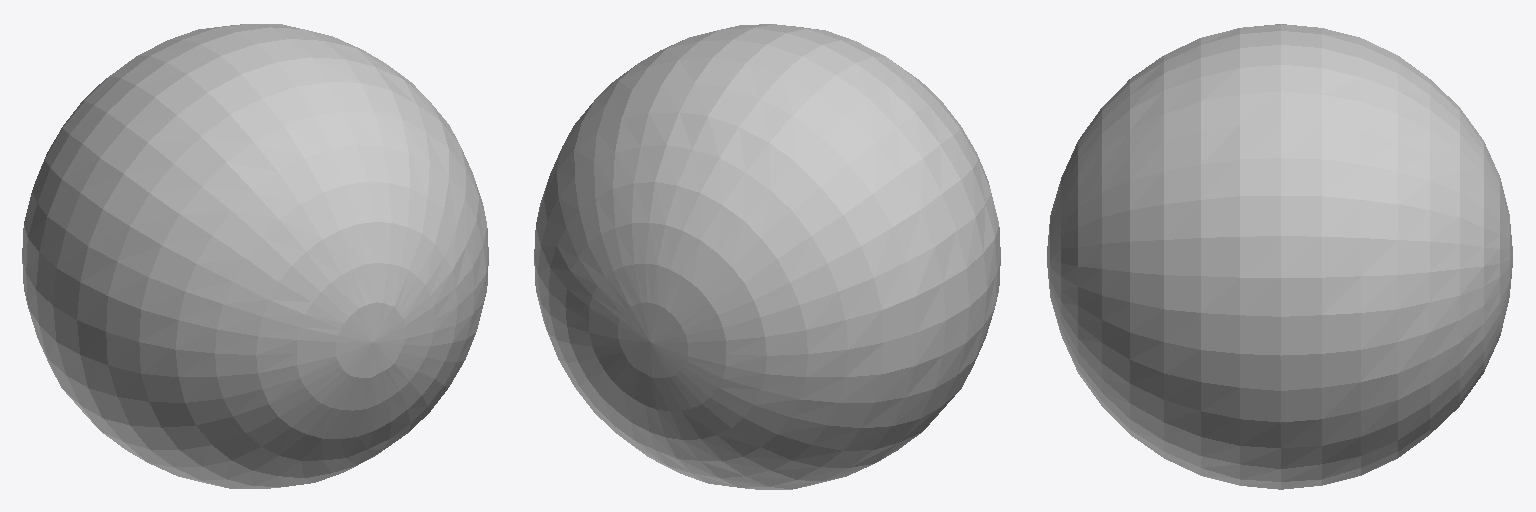
Rendered from Ojo_Izquierdo.obj.
The picture shows the model from 3 angles: view 1: azimuth 30°, elevation 25°; view 2: azimuth 150°, elevation 25°; view 3: azimuth 270°, elevation 25°; orthographic projection.
Parts seen in each view (by area): view 1: obj_0; view 2: obj_0; view 3: obj_0.
Boxes of the visible parts, x1=… form: obj_0: x1=22, y1=24, x2=488, y2=488; obj_0: x1=534, y1=24, x2=1000, y2=489; obj_0: x1=1047, y1=24, x2=1512, y2=489.
Bounding box in the file's own units: 0.251 × 0.251 × 0.251.